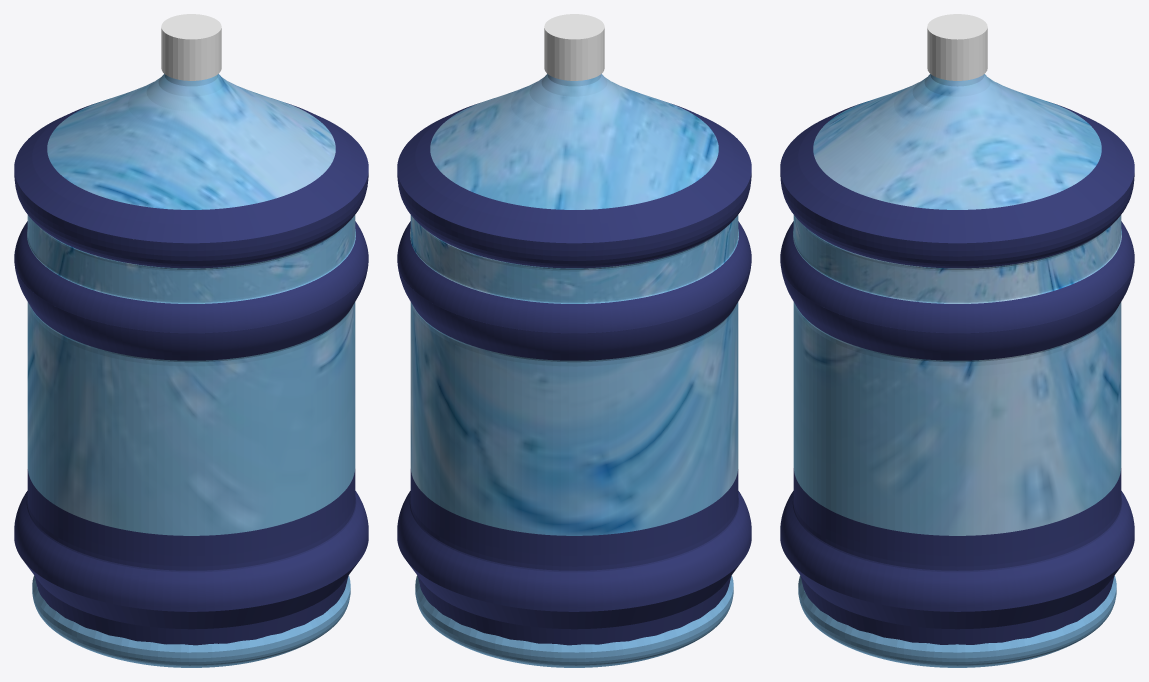
The model's file is galao.fbx.
3 views of the same model, side by side, from view 1: azimuth 30°, elevation 25°; view 2: azimuth 150°, elevation 25°; view 3: azimuth 270°, elevation 25° (orthographic).
Parts seen in each view (by area): view 1: galao, tampa; view 2: galao, tampa; view 3: galao, tampa.
Part boxes in pixels (box(x1,y1,x2,y2)): galao: box(14, 73, 368, 667); tampa: box(161, 14, 221, 80); galao: box(397, 73, 751, 667); tampa: box(544, 14, 604, 80); galao: box(780, 74, 1134, 667); tampa: box(927, 14, 987, 80).
Bounding box in the file's own units: 215 × 393 × 215.
Materials: 3 (1 with a texture image).
